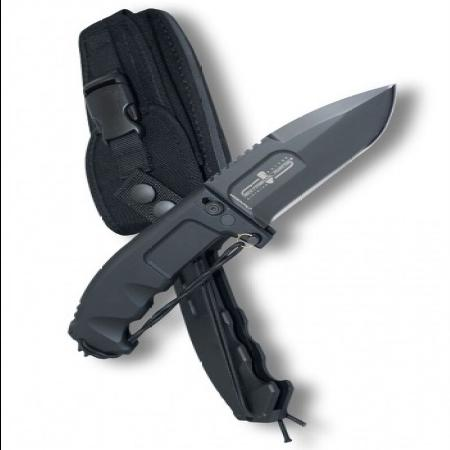long weapon: (198, 76, 408, 238)
